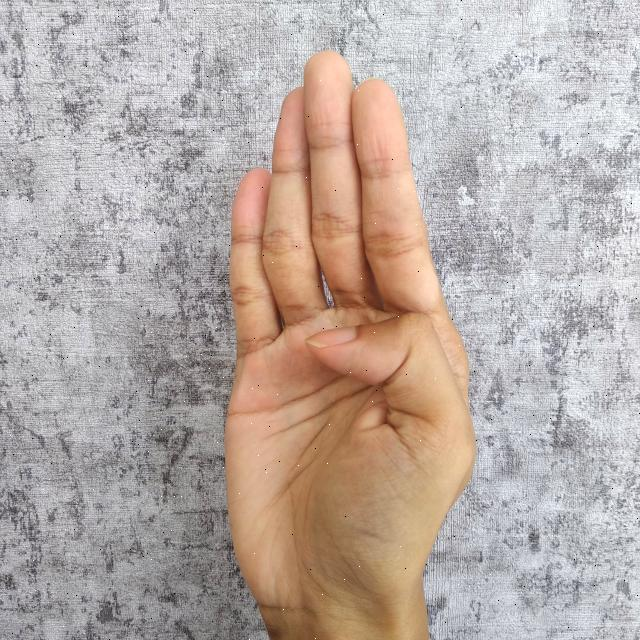B: (214, 38, 483, 640)
